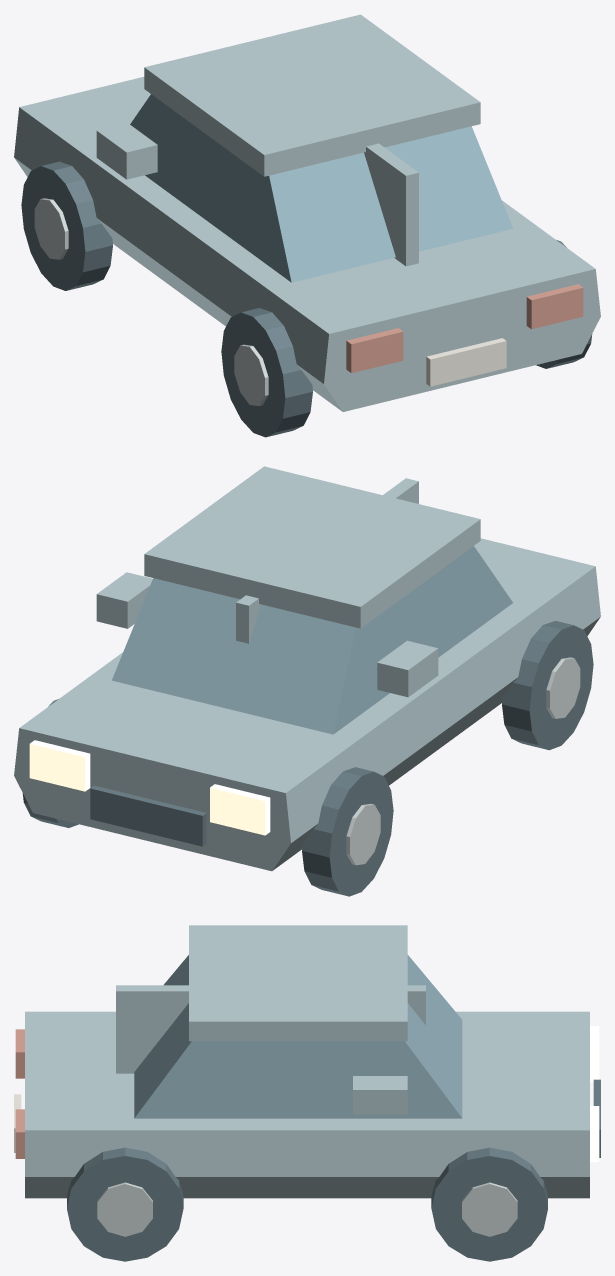
The model's file is remaster_car_1.glb.
The picture shows the model from 3 angles, top to bottom: view 1: azimuth 30°, elevation 25°; view 2: azimuth 150°, elevation 25°; view 3: azimuth 270°, elevation 25°; orthographic projection. The views are drawn at different scales.
Parts seen in each view (by area): view 1: remaster_car_1 blue, remaster_car_1 glass, remaster_car_1 dark, remaster_car_1 red, remaster_car_1 metal, remaster_car_1 white; view 2: remaster_car_1 blue, remaster_car_1 glass, remaster_car_1 dark, remaster_car_1 warm, remaster_car_1 metal; view 3: remaster_car_1 blue, remaster_car_1 glass, remaster_car_1 dark, remaster_car_1 metal, remaster_car_1 warm, remaster_car_1 red.
Boxes of the visible parts, x1,y1,x2,y2 form: remaster_car_1 blue: [14, 14, 600, 411]; remaster_car_1 glass: [130, 94, 512, 282]; remaster_car_1 dark: [21, 161, 592, 437]; remaster_car_1 red: [346, 284, 583, 373]; remaster_car_1 metal: [34, 198, 268, 405]; remaster_car_1 white: [426, 338, 506, 386]; remaster_car_1 blue: [14, 466, 600, 871]; remaster_car_1 glass: [112, 546, 512, 734]; remaster_car_1 dark: [22, 620, 593, 896]; remaster_car_1 warm: [29, 740, 270, 835]; remaster_car_1 metal: [346, 657, 580, 865]; remaster_car_1 blue: [25, 925, 589, 1198]; remaster_car_1 glass: [134, 955, 462, 1118]; remaster_car_1 dark: [67, 1079, 600, 1261]; remaster_car_1 metal: [97, 1182, 517, 1236]; remaster_car_1 warm: [590, 1026, 599, 1161]; remaster_car_1 red: [15, 1029, 24, 1158].
Size of the model in its own units: 1.82 by 1.33 by 3.22.
